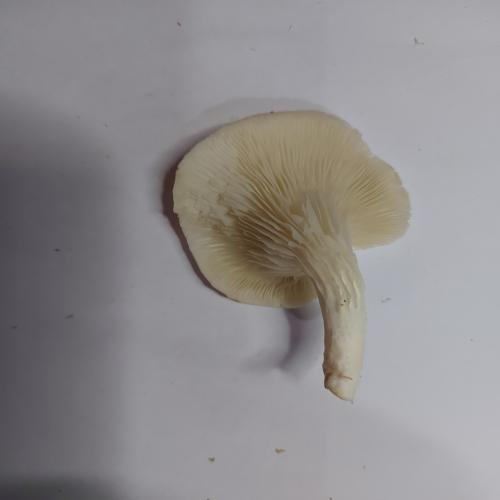Oyster Mushroom: (171, 109, 412, 404)
